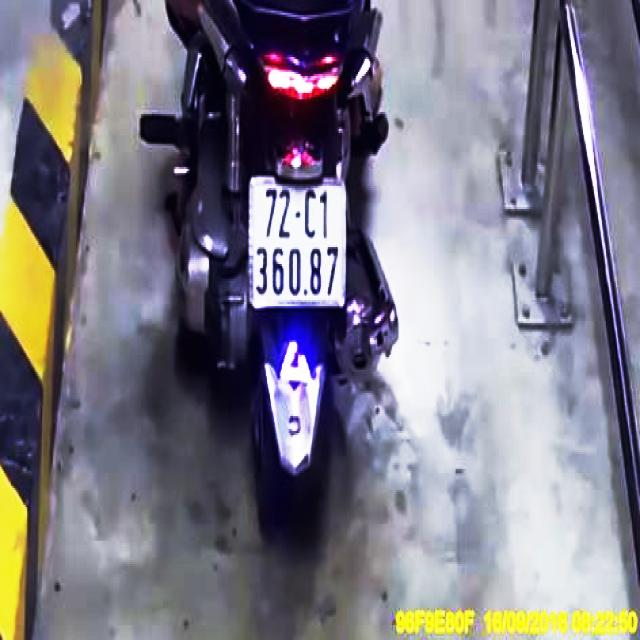license_plate: (251, 180, 346, 304)
